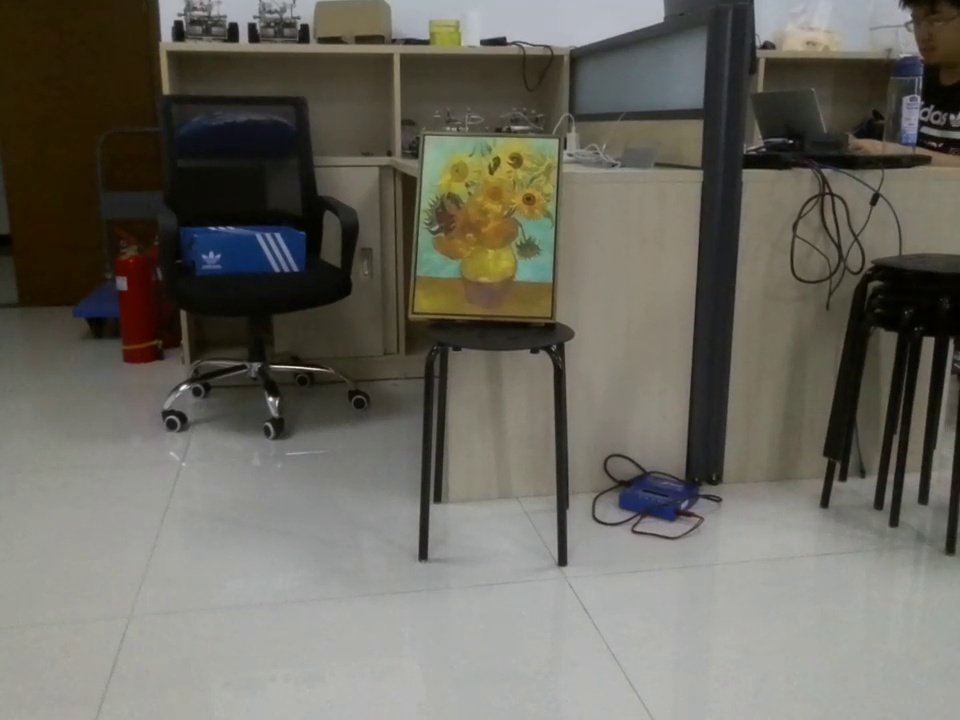painting: (407, 133, 564, 325)
